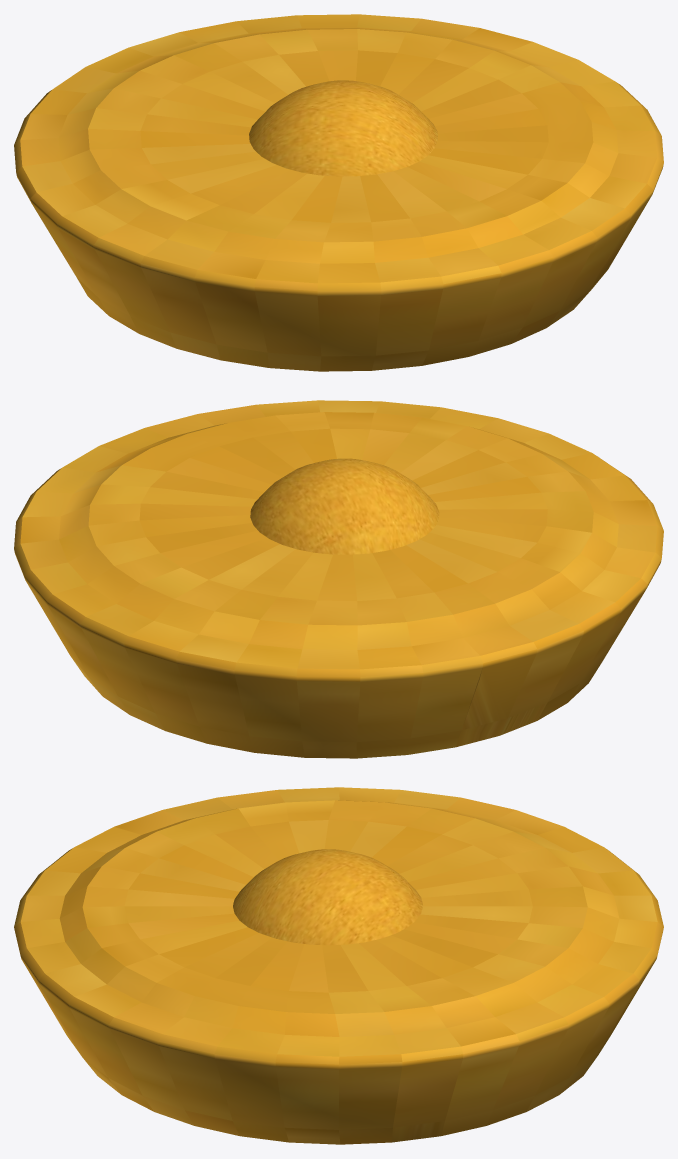
The model's file is gong.fbx.
3 renders of one model, top to bottom at view 1: azimuth 30°, elevation 25°; view 2: azimuth 150°, elevation 25°; view 3: azimuth 270°, elevation 25°, orthographic.
Parts seen in each view (by area): view 1: Cylinder, Sphere; view 2: Cylinder, Sphere; view 3: Cylinder, Sphere.
Part boxes in pixels (x1,y1,x2,y2): Cylinder: [14, 14, 663, 371]; Sphere: [249, 80, 437, 176]; Cylinder: [14, 400, 663, 758]; Sphere: [250, 458, 439, 554]; Cylinder: [14, 787, 663, 1144]; Sphere: [233, 849, 422, 945].
Size of the model in its own units: 161 by 47.4 by 161.
